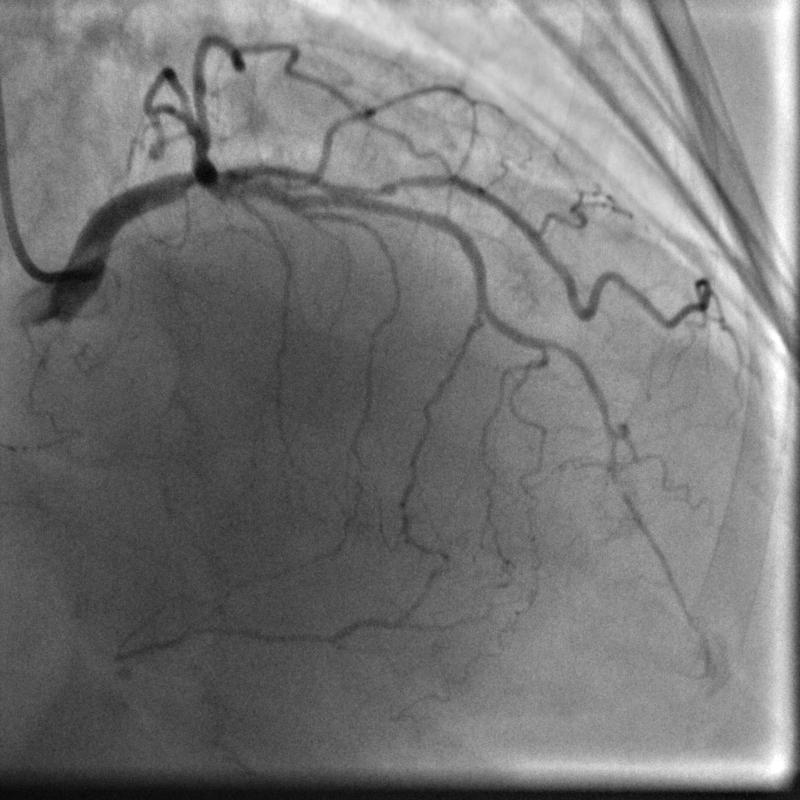Stenosis: (354, 167, 431, 211)
